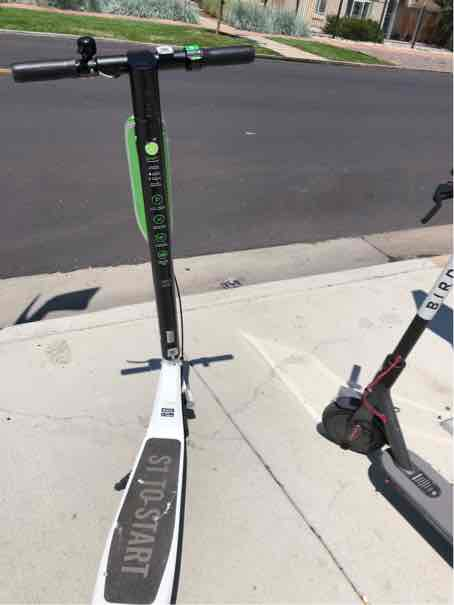scooter: (9, 33, 260, 605)
